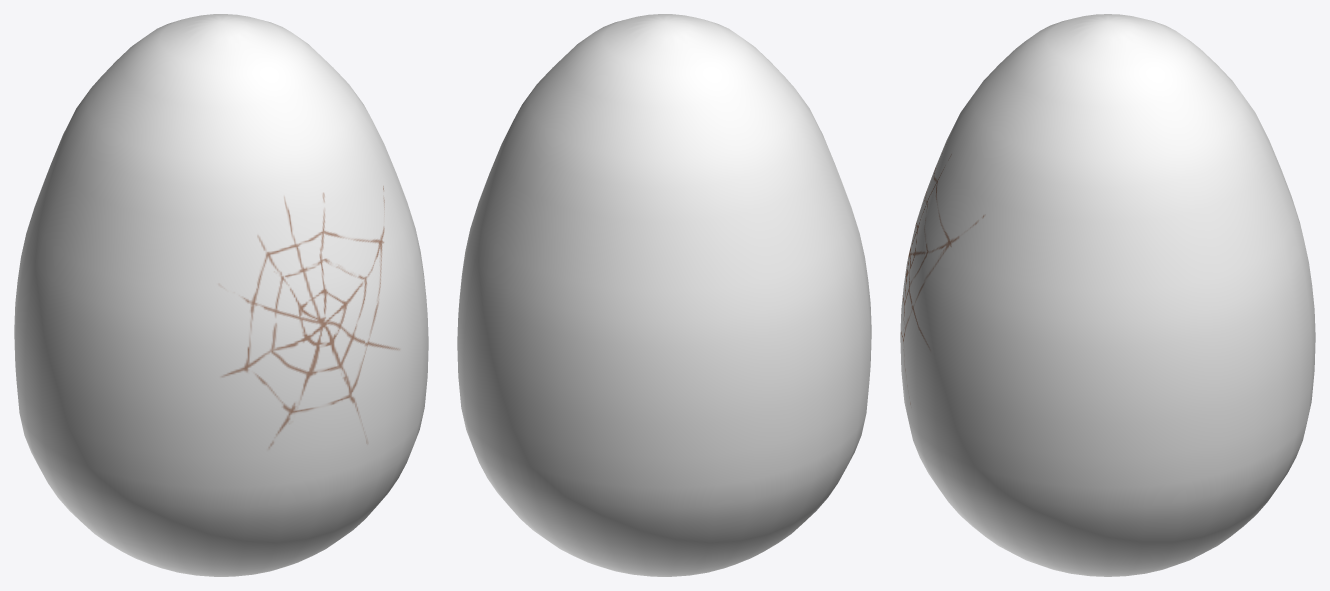
The model's file is tamago02.fbx.
The picture shows the model from 3 angles, left to right: view 1: azimuth 30°, elevation 25°; view 2: azimuth 150°, elevation 25°; view 3: azimuth 270°, elevation 25°; orthographic projection.
Visible parts, largest first — view 1: pSphere1; view 2: pSphere1; view 3: pSphere1.
Boxes of the visible parts, x1,y1,x2,y2 form: pSphere1: [14, 14, 428, 576]; pSphere1: [457, 14, 871, 576]; pSphere1: [900, 14, 1315, 576].
Bounding box in the file's own units: 10.31 × 14.68 × 10.31.
